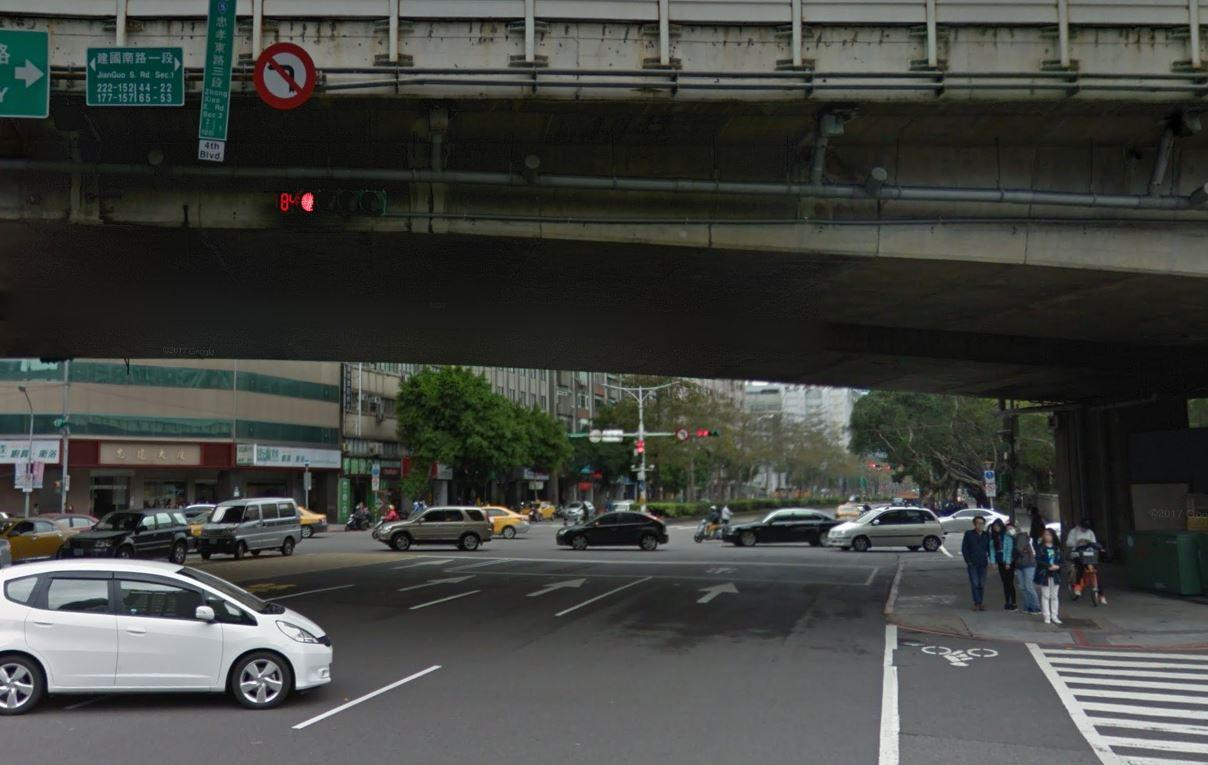no_left_turn: (250, 43, 316, 108)
red_traffic_light: (277, 189, 381, 214)
